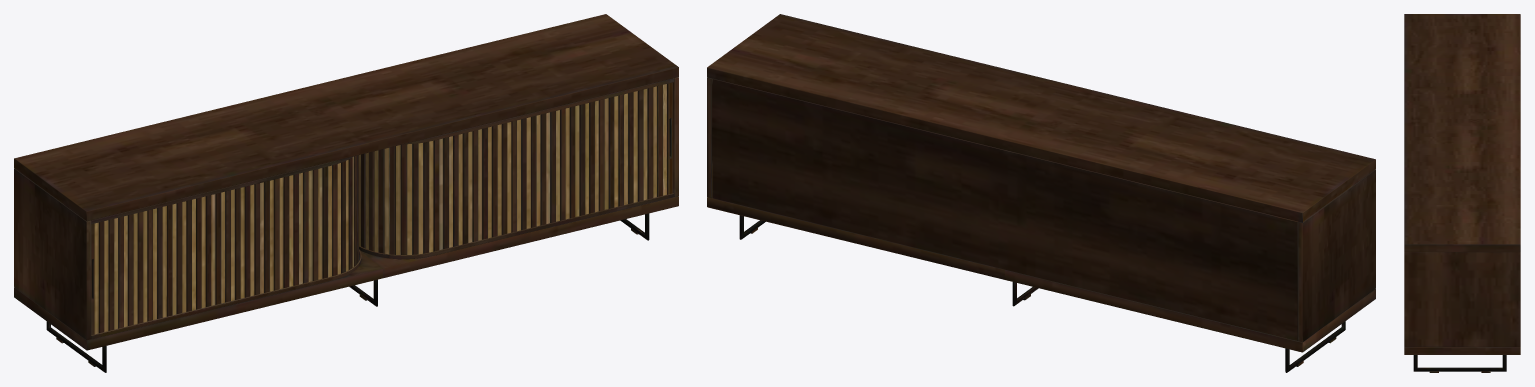
Rendered from ph-cabinet-slatted-low.glb.
The picture shows the model from 3 angles, left to right: view 1: azimuth 30°, elevation 25°; view 2: azimuth 150°, elevation 25°; view 3: azimuth 270°, elevation 25°; orthographic projection. The views are drawn at different scales.
Parts seen in each view (by area): view 1: modern_wooden_cabinet_body, modern_wooden_cabinet_door_r, modern_wooden_cabinet_door_l; view 2: modern_wooden_cabinet_body; view 3: modern_wooden_cabinet_body.
Part boxes in pixels (x1,y1,x2,y2): modern_wooden_cabinet_body: (14,14,678,372); modern_wooden_cabinet_door_r: (359,82,672,254); modern_wooden_cabinet_door_l: (91,155,358,334); modern_wooden_cabinet_body: (707,14,1375,372); modern_wooden_cabinet_body: (1404,14,1520,372).
Bounding box in the file's own units: 2.44 × 0.6802 × 0.5199.
1 material, 1 textured.
